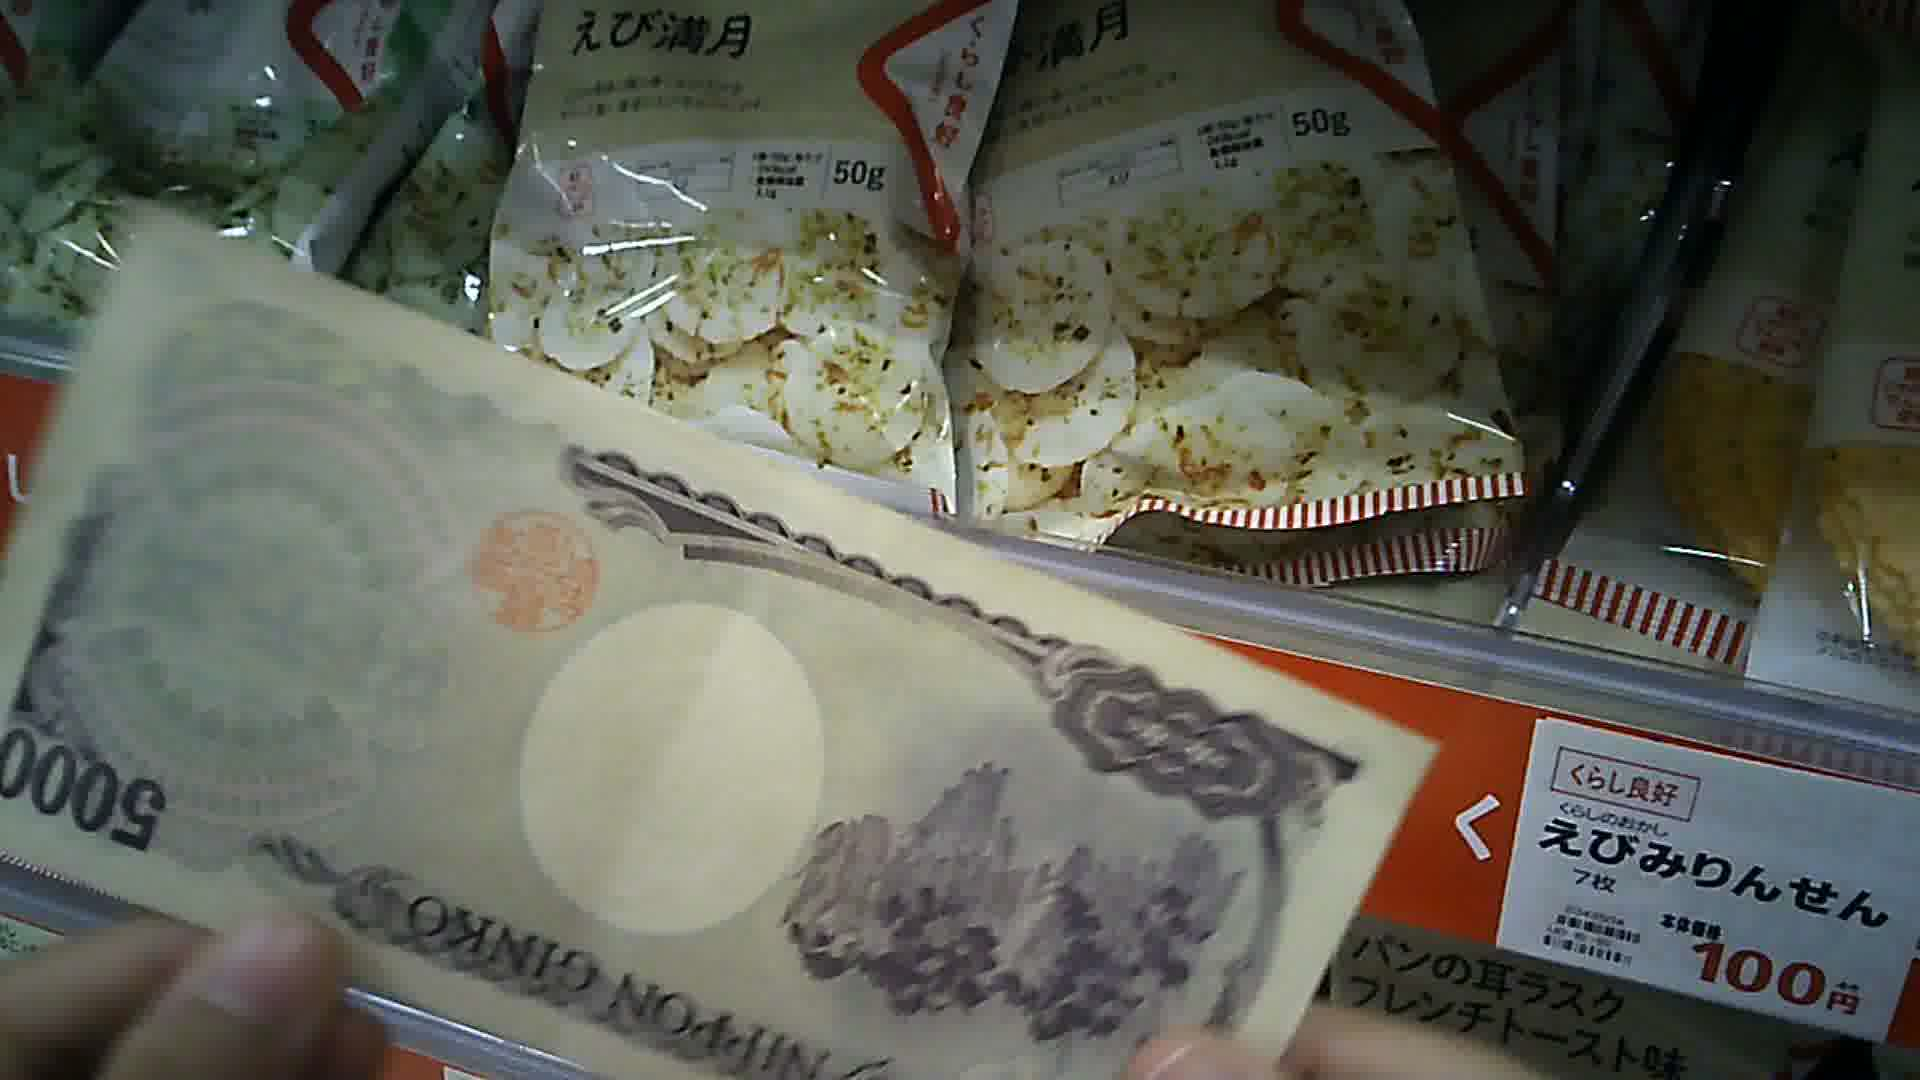5,000 Yen: (3, 196, 1412, 1079)
